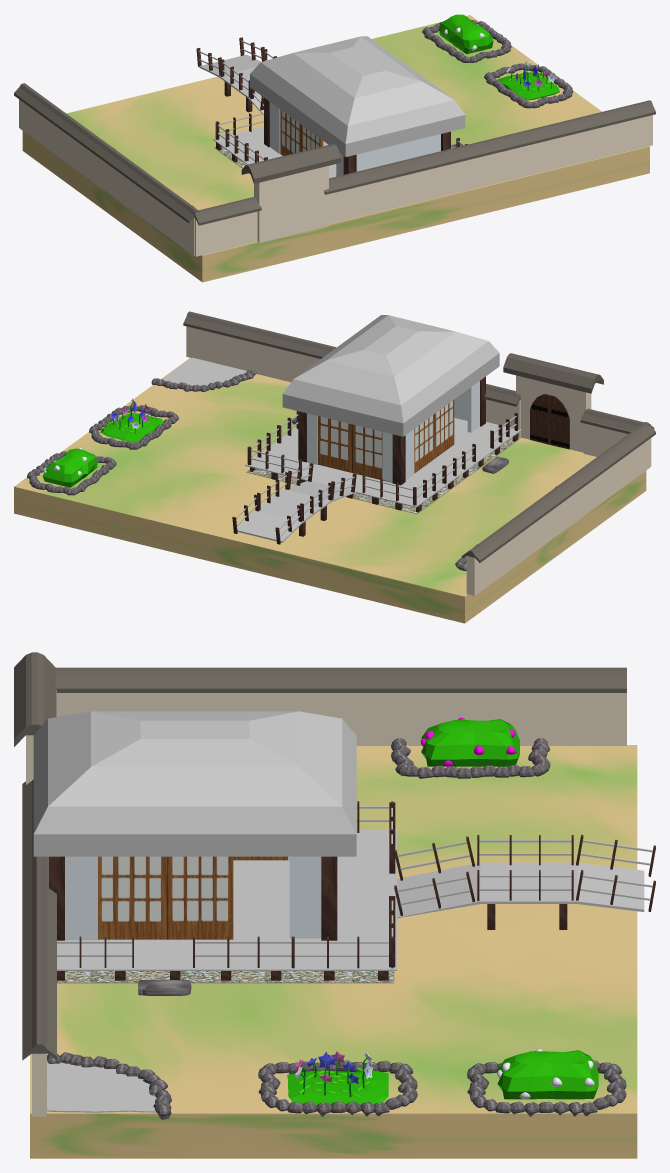
File: kikyou_3rdmap_2nd.FBX
3 renders of one model, top to bottom at view 1: azimuth 30°, elevation 25°; view 2: azimuth 150°, elevation 25°; view 3: azimuth 270°, elevation 25°, orthographic. The views are drawn at different scales.
Parts seen in each view (by area): view 1: Box003, Box072, hei002, hei004, hei003, hei001, Box001 (×2), Box066, yuka, Box068, Box077, Box112; view 2: Box003, Box072, hei004, hei002, yuka, hei003, Box001 (×3), Box067, Box077, Box068, hei001, Box110 (+7 smaller); view 3: Box003, Box072, hei004, yuka, Box070, Box001 (×3), Box077, hei002, Box110, Box005, hei003, Box111 (+4 smaller).
Boxes of the visible parts, x1,y1,x2,y2 form: Box003: (22, 15, 649, 282); Box072: (250, 36, 465, 156); hei002: (324, 100, 655, 224); hei004: (14, 83, 199, 255); hei003: (241, 144, 341, 242); hei001: (192, 196, 261, 256); Box001 (×2): (439, 14, 559, 100); Box066: (356, 134, 440, 171); yuka: (213, 126, 451, 178); Box068: (280, 109, 323, 155); Box077: (199, 54, 263, 114); Box112: (270, 102, 280, 153); Box003: (14, 357, 646, 623); Box072: (282, 315, 499, 436); hei004: (461, 422, 655, 595); hei002: (183, 311, 520, 437); yuka: (245, 418, 521, 507); hei003: (503, 353, 603, 452); Box001 (×3): (43, 394, 549, 487); Box067: (318, 416, 392, 482); Box077: (237, 481, 356, 542); Box068: (414, 400, 454, 473); hei001: (580, 408, 654, 465); Box110: (162, 357, 246, 386); Box003: (30, 745, 637, 1158); Box072: (33, 711, 356, 856); hei004: (55, 667, 626, 745); yuka: (57, 829, 396, 970); Box070: (98, 856, 233, 939); Box001 (×3): (287, 719, 598, 1105); Box077: (397, 862, 644, 918); hei002: (22, 779, 56, 1116); Box110: (47, 1061, 156, 1112); Box005: (57, 971, 394, 983); hei003: (14, 652, 55, 784); Box111: (65, 856, 97, 940).
Size of the model in its own units: 2823 by 788 by 2008.
